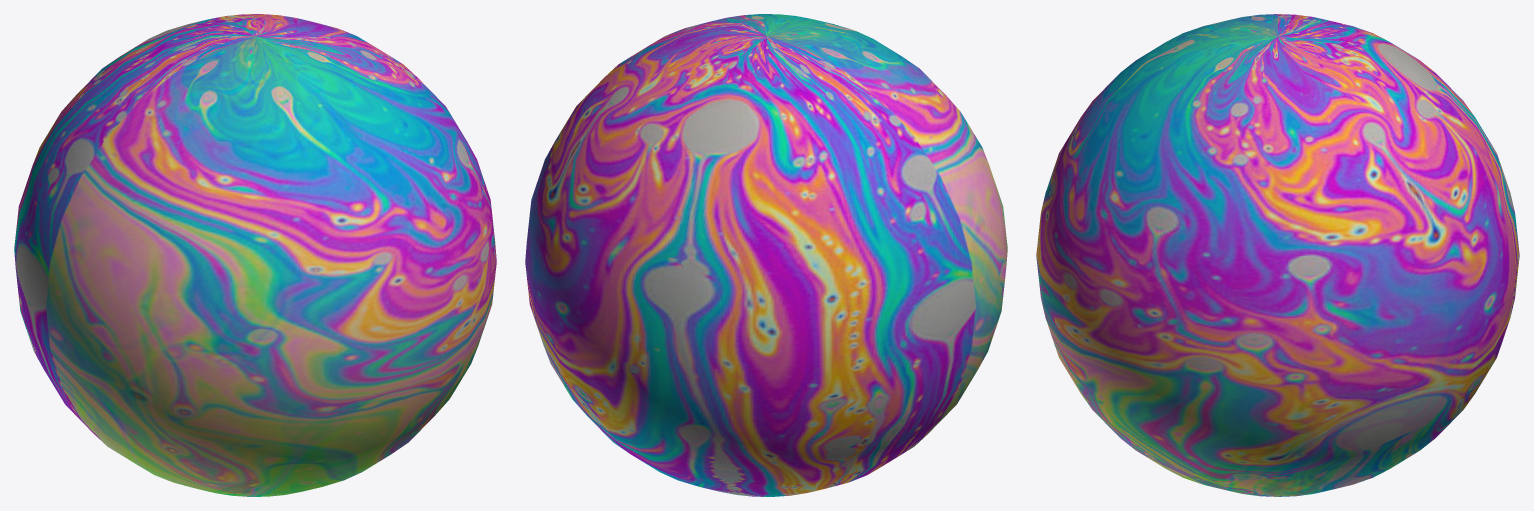
The model's file is bubble.fbx.
The picture shows the model from 3 angles, left to right: view 1: azimuth 30°, elevation 25°; view 2: azimuth 150°, elevation 25°; view 3: azimuth 270°, elevation 25°; orthographic projection.
Parts seen in each view (by area): view 1: Sphere; view 2: Sphere; view 3: Sphere.
Boxes of the visible parts, x1,y1,x2,y2 form: Sphere: (14,14,496,496); Sphere: (525,14,1007,496); Sphere: (1036,14,1519,496).
Bounding box in the file's own units: 48.52 × 48.52 × 48.52.
Materials: 1 (1 with a texture image).
